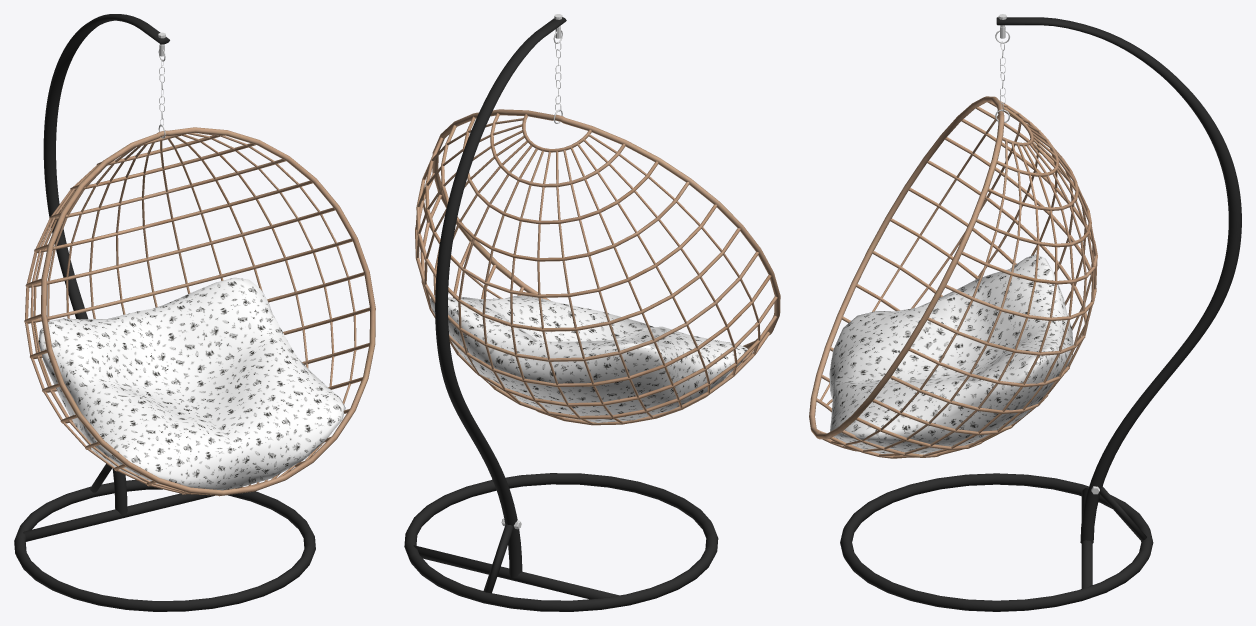
File: hanging_chair.glb
The picture shows the model from 3 angles, left to right: view 1: azimuth 30°, elevation 25°; view 2: azimuth 150°, elevation 25°; view 3: azimuth 270°, elevation 25°; orthographic projection. The views are drawn at different scales.
Parts seen in each view (by area): view 1: cushion, seat, metal; view 2: seat, cushion, metal; view 3: cushion, seat, metal.
Part boxes in pixels (x1,y1,x2,y2): cushion: (38,277,345,490); seat: (24,127,375,496); metal: (14,14,315,611); seat: (415,109,780,425); cushion: (430,295,748,422); metal: (404,17,718,611); cushion: (829,254,1073,454); seat: (809,96,1097,458); metal: (840,17,1241,611).
Size of the model in its own units: 13.04 by 19.89 by 14.66.
Materials: 4 (2 with a texture image).
